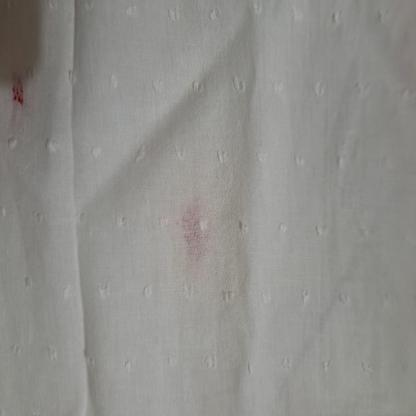spot: (175, 196, 213, 271), (9, 71, 26, 111)
